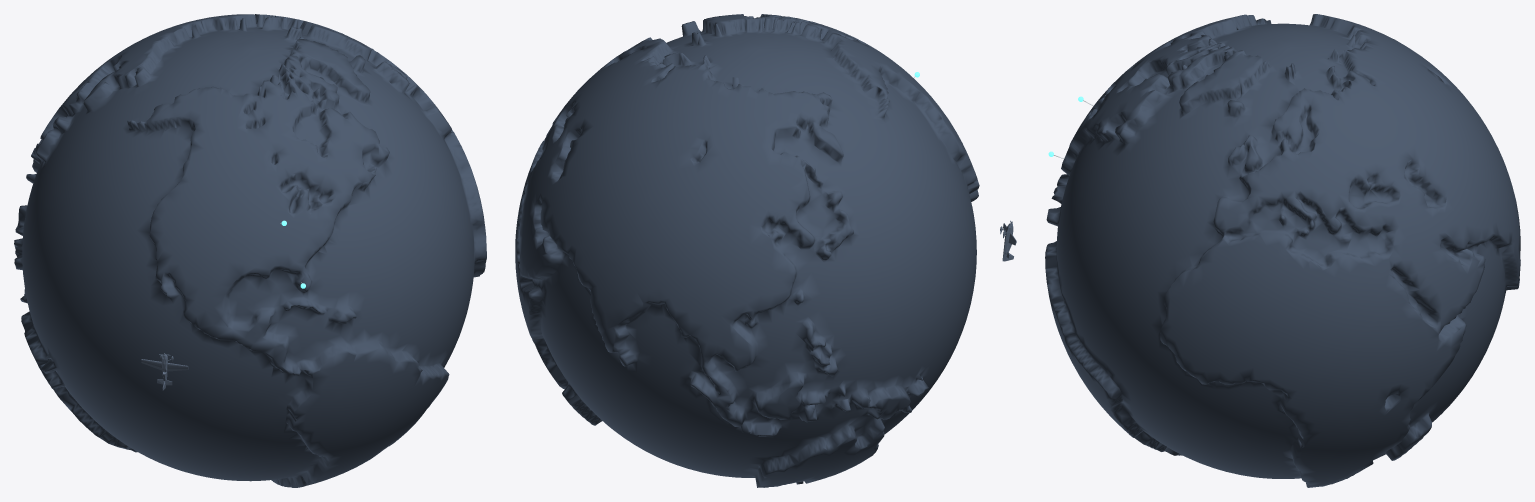
The model's file is world-plane-pins.glb.
The picture shows the model from 3 angles, left to right: view 1: azimuth 30°, elevation 25°; view 2: azimuth 150°, elevation 25°; view 3: azimuth 270°, elevation 25°; orthographic projection.
Visible parts, largest first — view 1: Sphere.001, plane; view 2: Sphere.001; view 3: Sphere.001.
Part boxes in pixels (x1,y1,x2,y2): Sphere.001: (14,14,486,487); plane: (141,353,188,390); Sphere.001: (515,14,979,487); Sphere.001: (1045,14,1520,487).
Size of the model in its own units: 4.03 by 4.11 by 4.13.
